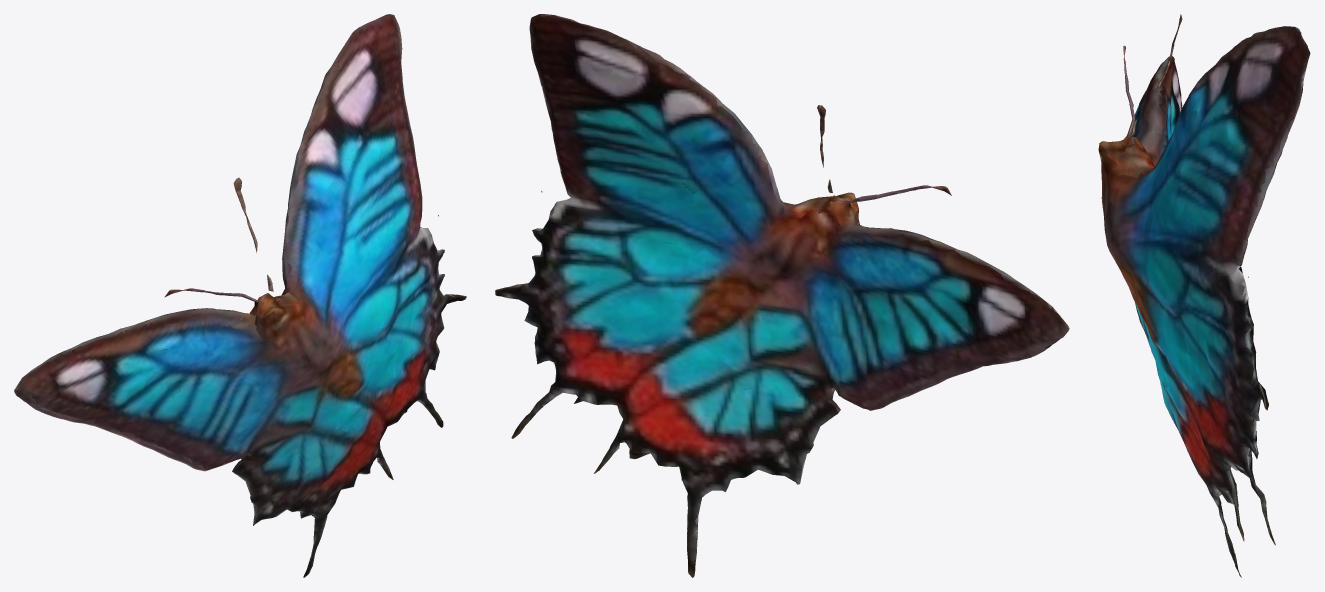
Rendered from butterfly.glb.
3 views of the same model, side by side, from view 1: azimuth 30°, elevation 25°; view 2: azimuth 150°, elevation 25°; view 3: azimuth 270°, elevation 25° (orthographic). The views are drawn at different scales.
Visible parts, largest first — view 1: world; view 2: world; view 3: world.
Part boxes in pixels (left/top/right/bottom): world: left=14, top=14, right=466, bottom=577; world: left=495, top=14, right=1069, bottom=577; world: left=1098, top=14, right=1310, bottom=577.
Size of the model in its own units: 0.3347 by 0.3353 by 0.1079.
Materials: 1 (1 with a texture image).
